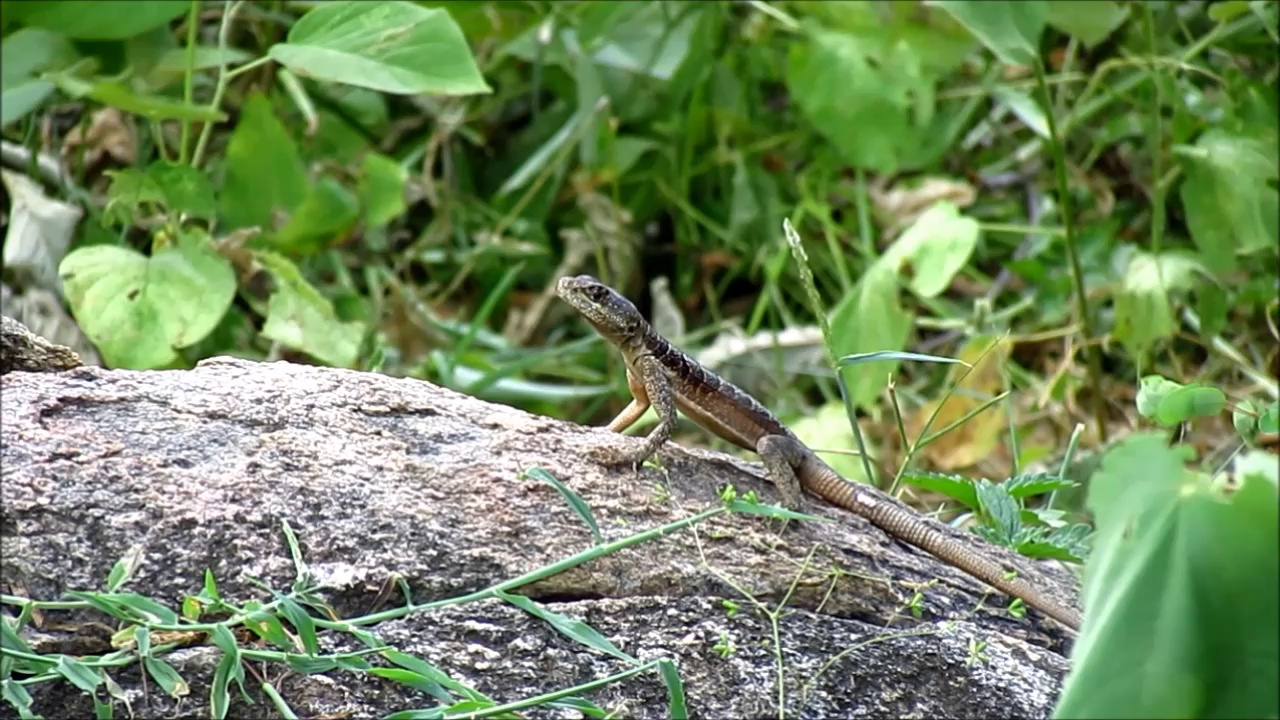body: (587, 317, 1081, 631)
head: (554, 273, 642, 340)
